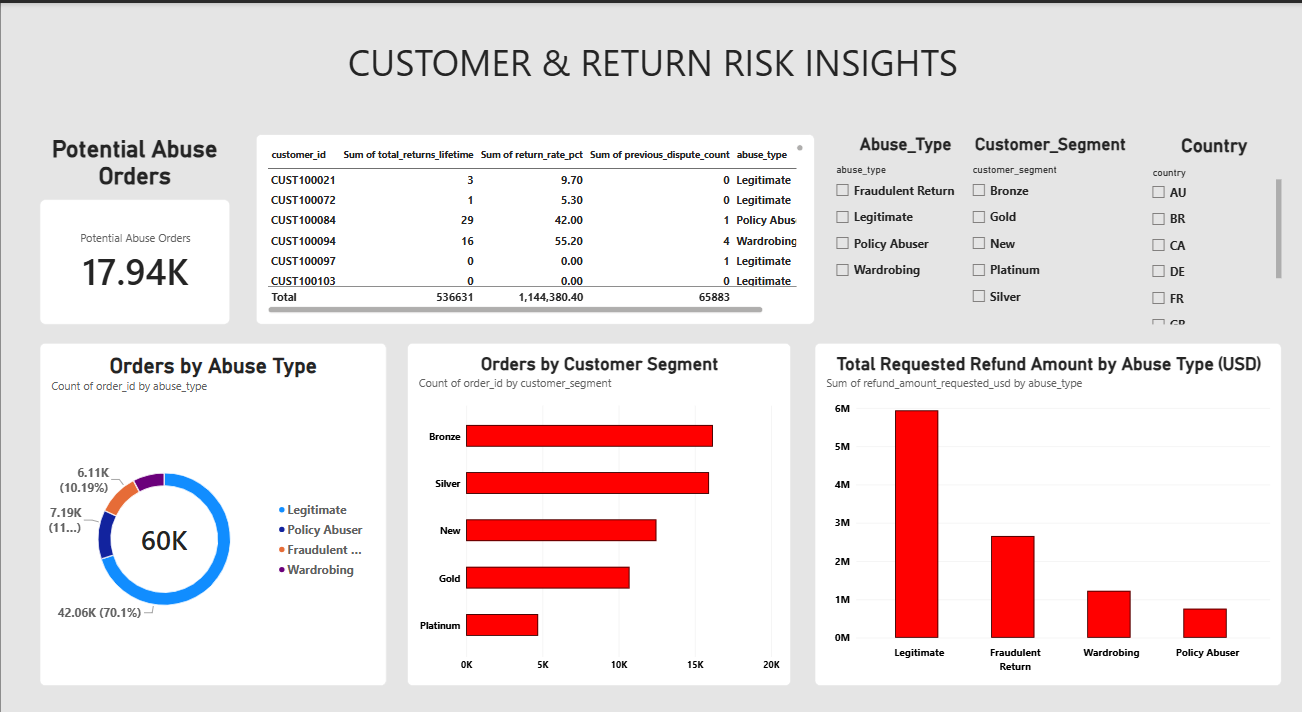

Layout of this report page (visuals, bound fields, positions):
{"tool":"powerbi","page":{"name":"Customer & Return Risk Insights","canvas":[1920,1080],"ordinal":2},"visuals":[{"type":"cardVisual","title":"Potential Abuse Orders","fields":{"Data":["ecommerce_return_abuse_dataset.Potential Abuse Orders"]},"box":[57.5,192.5,280,280],"z":0},{"type":"donutChart","title":"Orders by Abuse Type","fields":{"Category":["ecommerce_return_abuse_dataset.abuse_type"],"Y":["CountNonNull(ecommerce_return_abuse_dataset.order_id)"]},"box":[57.5,500,510,505],"z":1000},{"type":"clusteredBarChart","title":"Orders by Customer Segment","fields":{"Category":["ecommerce_return_abuse_dataset.customer_segment"],"Y":["CountNonNull(ecommerce_return_abuse_dataset.order_id)"]},"box":[597.5,500,565,505],"z":2000},{"type":"clusteredColumnChart","title":"Total Requested Refund Amount by Abuse Type (USD)","fields":{"Category":["ecommerce_return_abuse_dataset.abuse_type"],"Y":["Sum(ecommerce_return_abuse_dataset.refund_amount_requested_usd)"]},"box":[1197.5,500,687.5,505],"z":3000},{"type":"tableEx","fields":{"Values":["vw_Ecommerce_PowerBI.customer_id","Sum(ecommerce_return_abuse_dataset.total_returns_lifetime)","Sum(ecommerce_return_abuse_dataset.return_rate_pct)","Sum(ecommerce_return_abuse_dataset.previous_dispute_count)","ecommerce_return_abuse_dataset.abuse_type"]},"box":[375,192.5,822.5,280],"z":4000},{"type":"slicer","title":"Abuse_Type","fields":{"Values":["ecommerce_return_abuse_dataset.abuse_type"]},"box":[1222.5,192.5,220,280],"z":5000},{"type":"slicer","title":"Customer_Segment","fields":{"Values":["ecommerce_return_abuse_dataset.customer_segment"]},"box":[1422.5,192.5,245,280],"z":6000},{"type":"slicer","title":"Country","fields":{"Values":["ecommerce_return_abuse_dataset.country"]},"box":[1687.5,192.5,197.5,280],"z":7000},{"type":"textbox","box":[0,50,1920,230],"z":8000}]}

Visuals, with their boxes in screenshot pixels (x1, y1, x2, y2), scaled from the page's 1920x1080 canvas onto the 1302x712 screenshot:
"Potential Abuse Orders" cardVisual: {"x1": 39, "y1": 127, "x2": 229, "y2": 312}
"Orders by Abuse Type" donutChart: {"x1": 39, "y1": 330, "x2": 385, "y2": 663}
"Orders by Customer Segment" clusteredBarChart: {"x1": 405, "y1": 330, "x2": 788, "y2": 663}
"Total Requested Refund Amount by Abuse Type (USD)" clusteredColumnChart: {"x1": 812, "y1": 330, "x2": 1278, "y2": 663}
tableEx - vw_Ecommerce_PowerBI.customer_id x Sum(ecommerce_return_abuse_dataset.total_returns_lifetime): {"x1": 254, "y1": 127, "x2": 812, "y2": 312}
"Abuse_Type" slicer: {"x1": 829, "y1": 127, "x2": 978, "y2": 312}
"Customer_Segment" slicer: {"x1": 965, "y1": 127, "x2": 1131, "y2": 312}
"Country" slicer: {"x1": 1144, "y1": 127, "x2": 1278, "y2": 312}
textbox: {"x1": 0, "y1": 33, "x2": 1301, "y2": 185}
